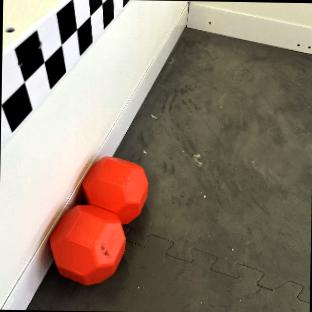V5_RED: (47, 155, 147, 284)
